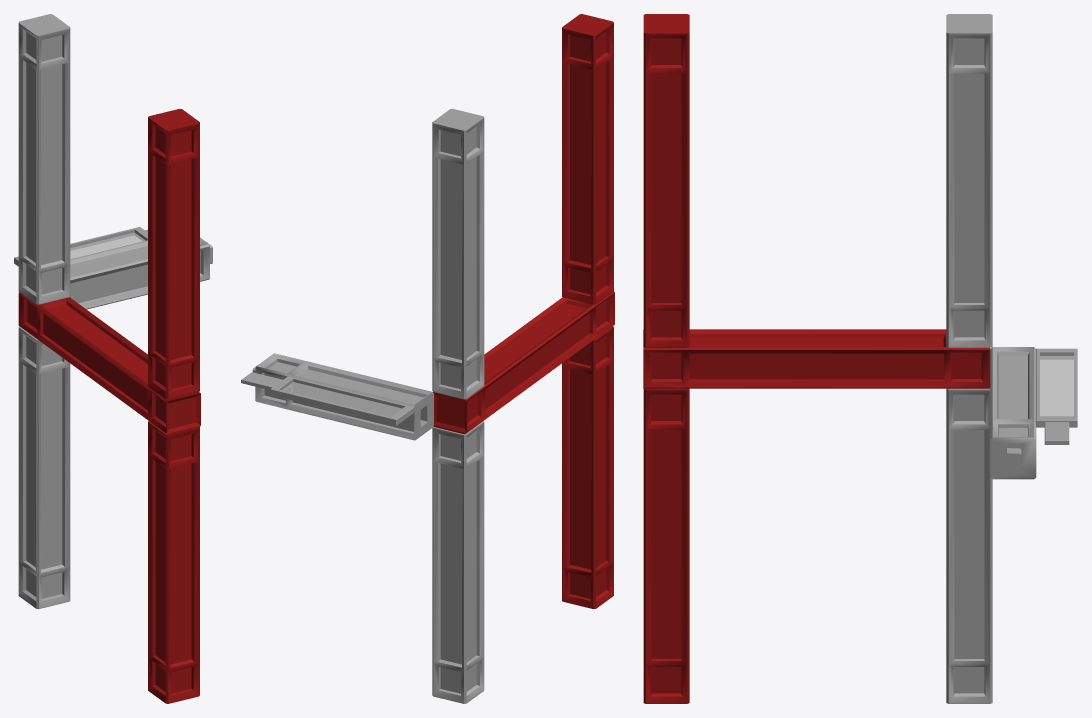
File: ConstructionUnit.fbx
3 renders of one model, left to right at view 1: azimuth 30°, elevation 25°; view 2: azimuth 150°, elevation 25°; view 3: azimuth 270°, elevation 25°, orthographic. The views are drawn at different scales.
Parts seen in each view (by area): view 1: BackFrameUnit, PillarFrame, ScaffoldingFrame, ScaffoldingNetFrame, ScaffoldingNet; view 2: BackFrameUnit, PillarFrame, ScaffoldingFrame, ScaffoldingNetFrame, ScaffoldingNet; view 3: BackFrameUnit, PillarFrame, ScaffoldingFrame, ScaffoldingNet, ScaffoldingNetFrame.
Boxes of the visible parts, bbox=[...] form: BackFrameUnit: bbox=[18, 108, 200, 703]; PillarFrame: bbox=[18, 14, 70, 609]; ScaffoldingFrame: bbox=[70, 237, 212, 309]; ScaffoldingNetFrame: bbox=[14, 227, 147, 266]; ScaffoldingNet: bbox=[70, 232, 145, 258]; BackFrameUnit: bbox=[433, 14, 614, 609]; PillarFrame: bbox=[432, 108, 484, 703]; ScaffoldingFrame: bbox=[252, 353, 433, 440]; ScaffoldingNetFrame: bbox=[241, 372, 413, 425]; ScaffoldingNet: bbox=[282, 382, 401, 416]; BackFrameUnit: bbox=[643, 14, 990, 703]; PillarFrame: bbox=[946, 14, 992, 703]; ScaffoldingFrame: bbox=[990, 347, 1036, 479]; ScaffoldingNet: bbox=[1040, 356, 1073, 416]; ScaffoldingNetFrame: bbox=[1036, 348, 1077, 444].
Size of the model in its own units: 589 by 943 by 1607.
